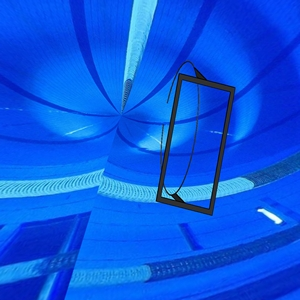circle: (155, 60, 236, 218)
